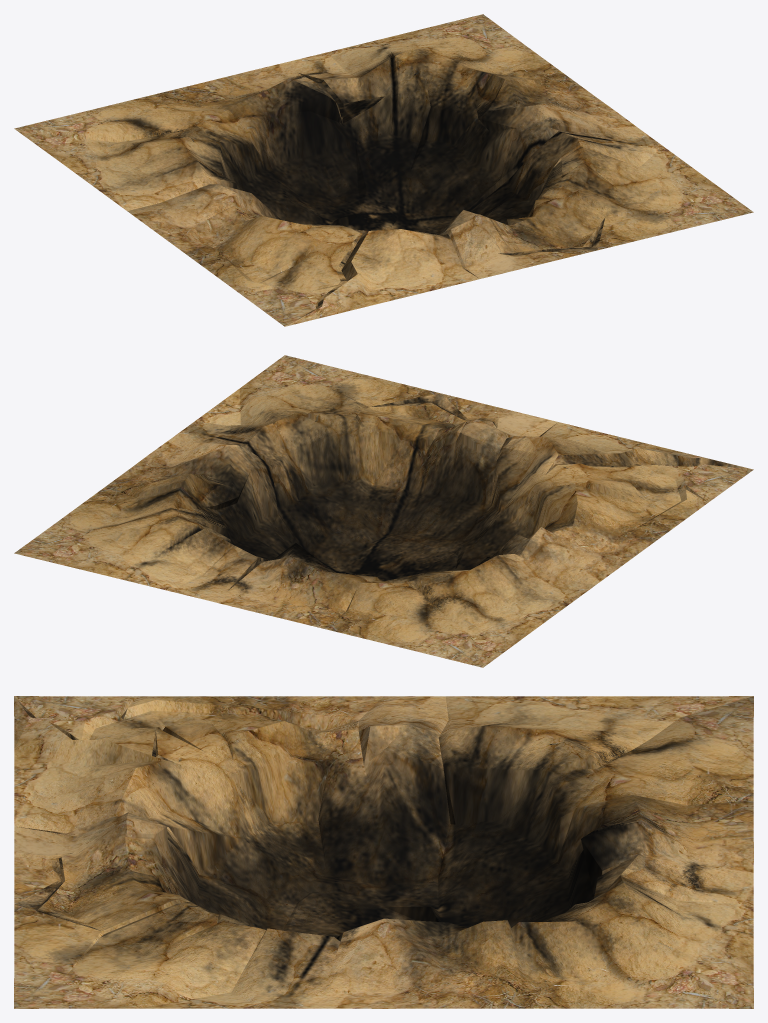
File: Crater_1.fbx
3 renders of one model, top to bottom at view 1: azimuth 30°, elevation 25°; view 2: azimuth 150°, elevation 25°; view 3: azimuth 270°, elevation 25°, orthographic. The views are drawn at different scales.
Parts seen in each view (by area): view 1: Crater_1; view 2: Crater_1; view 3: Crater_1.
Boxes of the visible parts, bbox=[...] form: Crater_1: bbox=[14, 14, 753, 326]; Crater_1: bbox=[14, 355, 753, 667]; Crater_1: bbox=[14, 696, 753, 1008].
Size of the model in its own units: 1201 by 234 by 1201.
